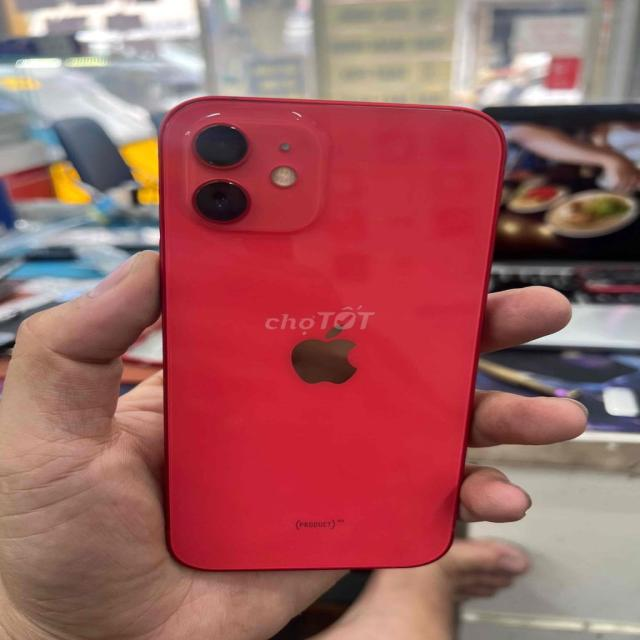gen_12_13: (143, 89, 515, 573)
